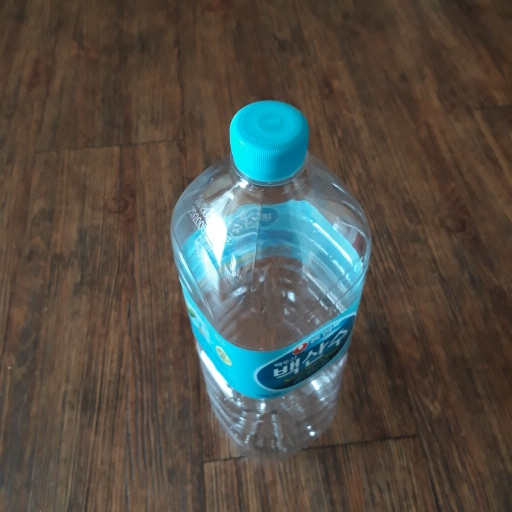Plastic_0: (170, 101, 370, 448)
